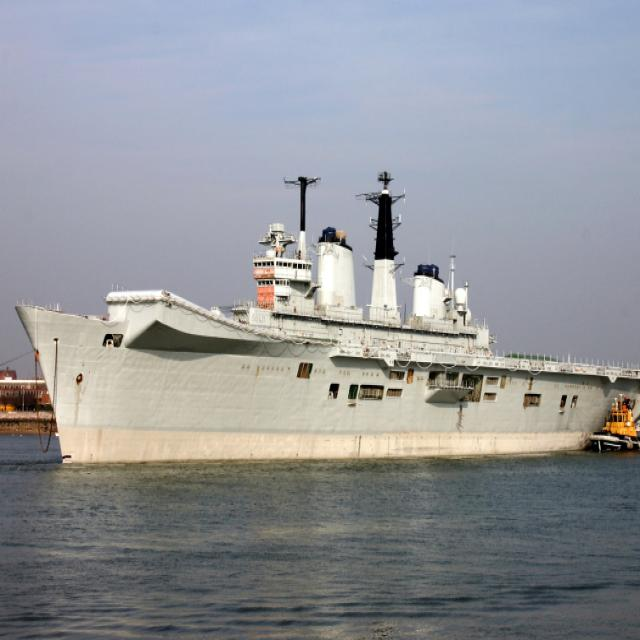Portanaves: (11, 160, 640, 473)
